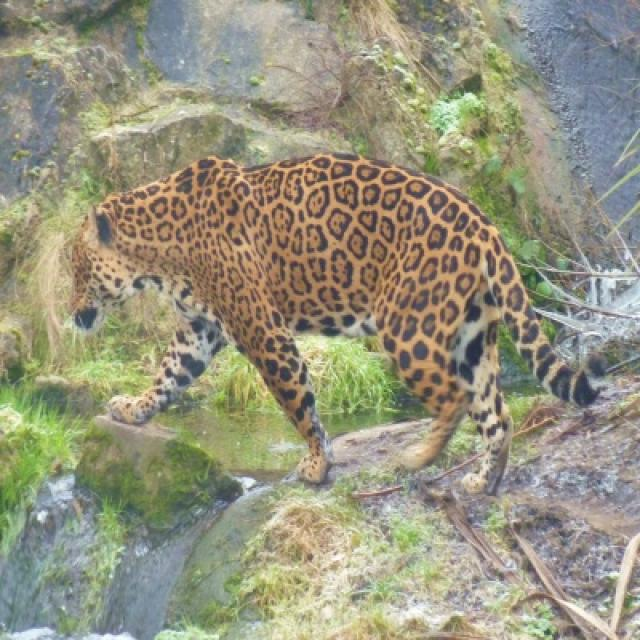Jaguar: (69, 152, 598, 499)
